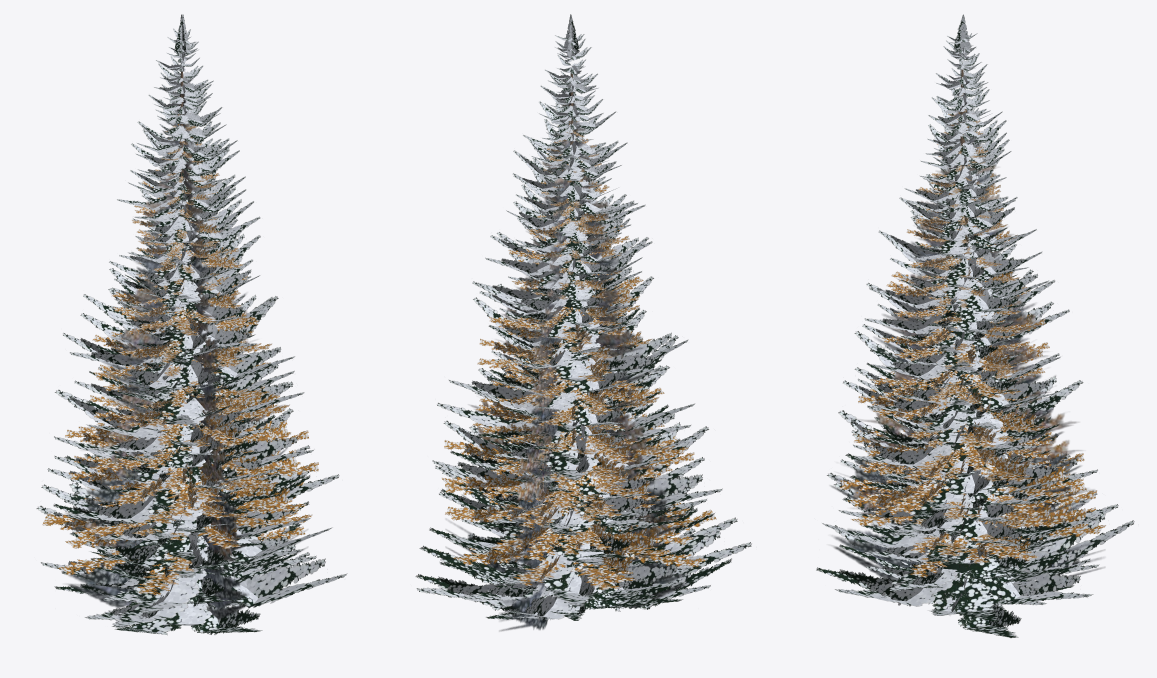
Rendered from trees.glb.
3 renders of one model, left to right at view 1: azimuth 30°, elevation 25°; view 2: azimuth 150°, elevation 25°; view 3: azimuth 270°, elevation 25°, orthographic.
Visible parts, largest first — view 1: spruce_2, larch_0, spruce_0, larch_far, larch_1, spruce_far, spruce_1; view 2: spruce_2, larch_0, spruce_0, larch_far, larch_1, spruce_far, spruce_1; view 3: spruce_2, larch_0, spruce_0, larch_far, larch_1, spruce_far, spruce_1.
Part boxes in pixels (x1,y1,x2,y2): spruce_2: [36, 14, 347, 628]; larch_0: [42, 105, 318, 595]; spruce_0: [53, 141, 310, 634]; larch_far: [65, 94, 302, 609]; larch_1: [47, 240, 289, 576]; spruce_far: [65, 143, 307, 619]; spruce_1: [61, 315, 297, 603]; spruce_2: [417, 14, 751, 621]; larch_0: [442, 104, 716, 589]; spruce_0: [415, 142, 731, 620]; larch_far: [446, 92, 687, 621]; larch_1: [445, 243, 690, 554]; spruce_far: [446, 131, 688, 631]; spruce_1: [463, 306, 685, 601]; spruce_2: [822, 14, 1134, 615]; larch_0: [840, 109, 1105, 577]; spruce_0: [816, 141, 1076, 637]; larch_far: [831, 93, 1104, 567]; larch_1: [854, 242, 1084, 558]; spruce_far: [830, 129, 1104, 580]; spruce_1: [839, 333, 1071, 587].
Size of the model in its own units: 11.44 by 22.22 by 11.66.
8 materials, 5 textured.
